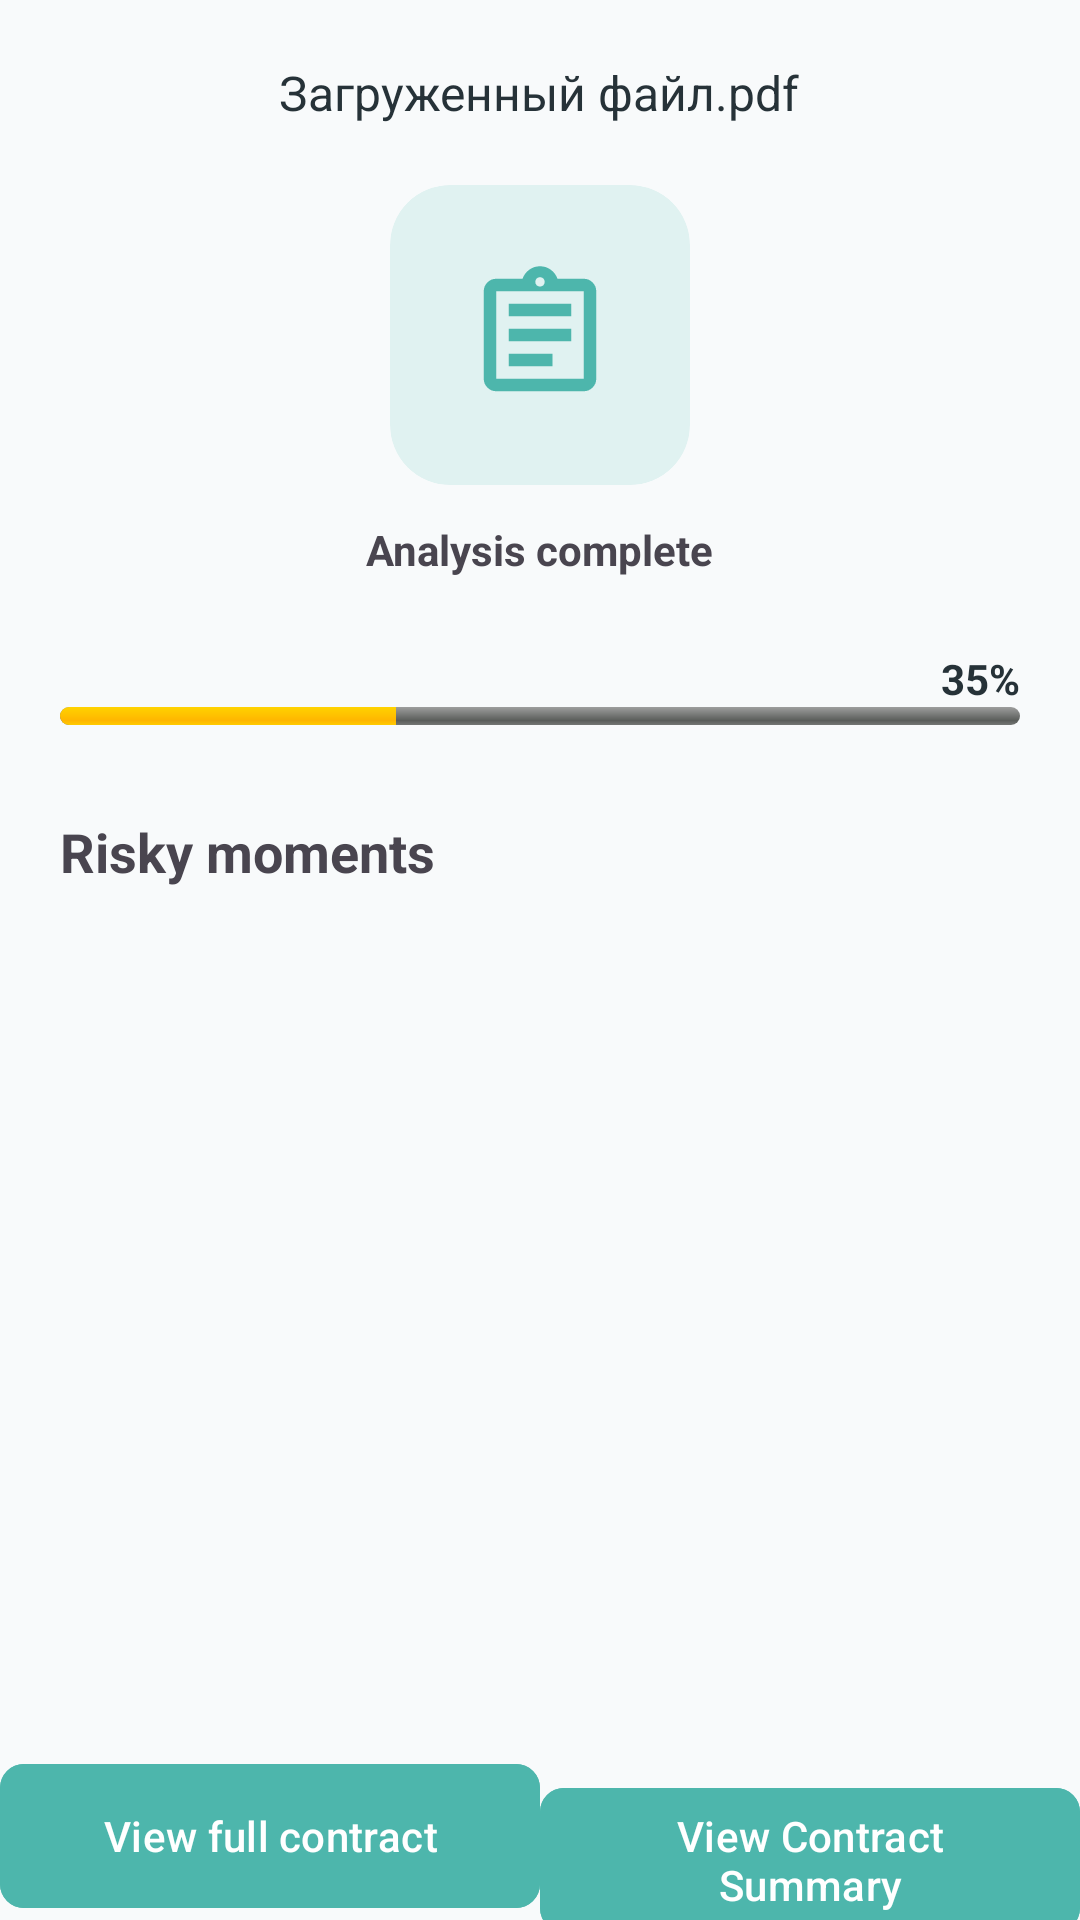

Icon bounding boxes for this 1080px x 1920px phone screenshot, format [x1,y1,x2,y2]:
assignment: [483,266,597,392]
